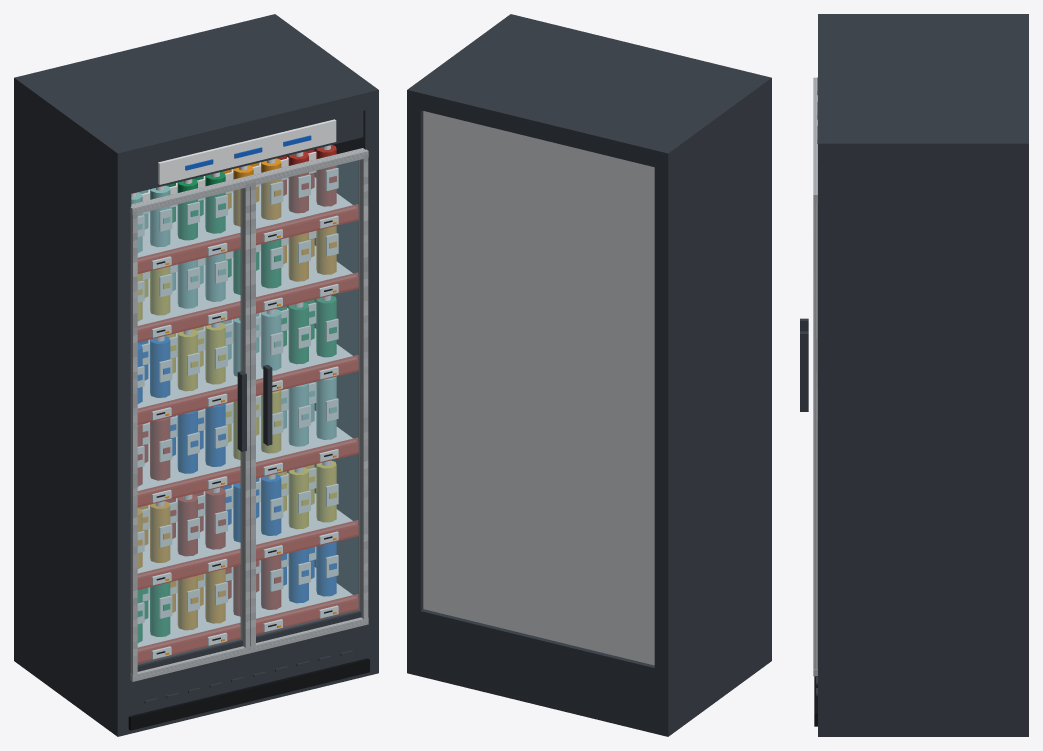
The model's file is shelf-cooler-dark.glb.
3 views of the same model, side by side, from view 1: azimuth 30°, elevation 25°; view 2: azimuth 150°, elevation 25°; view 3: azimuth 270°, elevation 25° (orthographic).
Visible parts, largest first — view 1: ShelfCoolerDark, cooler-side-left, cooler-top, shelf-base, stock-labels_eef1f4, cooler-side-right, stock-bottles_1b6fd6, stock-bottles_bc3a2f, stock-bottles_8ccaca, stock-bottles_e6c543, stock-bottles_1f9c63, stock-bottles_f0a128 (+11 smaller); view 2: shelf-back, cooler-side-left, cooler-top, shelf-base, cooler-side-right; view 3: cooler-side-right, cooler-top, shelf-base, ShelfCoolerDark.
Boxes of the visible parts, <box> form: ShelfCoolerDark: <box>130,119,368,681</box>; cooler-side-left: <box>14,95,131,671</box>; cooler-top: <box>14,14,378,170</box>; shelf-base: <box>14,596,378,736</box>; stock-labels_eef1f4: <box>137,151,338,659</box>; cooler-side-right: <box>287,107,378,610</box>; stock-bottles_1b6fd6: <box>137,336,336,603</box>; stock-bottles_bc3a2f: <box>137,145,336,616</box>; stock-bottles_8ccaca: <box>131,185,336,446</box>; stock-bottles_e6c543: <box>137,266,336,529</box>; stock-bottles_1f9c63: <box>137,172,336,642</box>; stock-bottles_f0a128: <box>137,158,336,630</box>; shelf-back: <box>423,111,654,665</box>; cooler-side-left: <box>654,95,771,671</box>; cooler-top: <box>407,14,771,170</box>; shelf-base: <box>407,596,771,736</box>; cooler-side-right: <box>407,107,423,610</box>; cooler-side-right: <box>818,161,1028,670</box>; cooler-top: <box>818,14,1028,160</box>; shelf-base: <box>818,670,1028,736</box>; ShelfCoolerDark: <box>800,77,817,676</box>.
Size of the model in its own units: 0.96 by 2.05 by 0.7165.
Materials: 16 (1 with a texture image).
